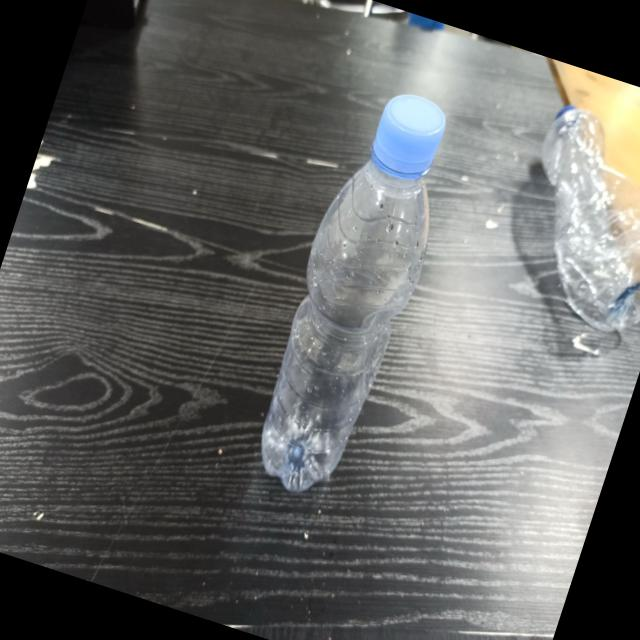BotolPlastik: (236, 76, 474, 508)
